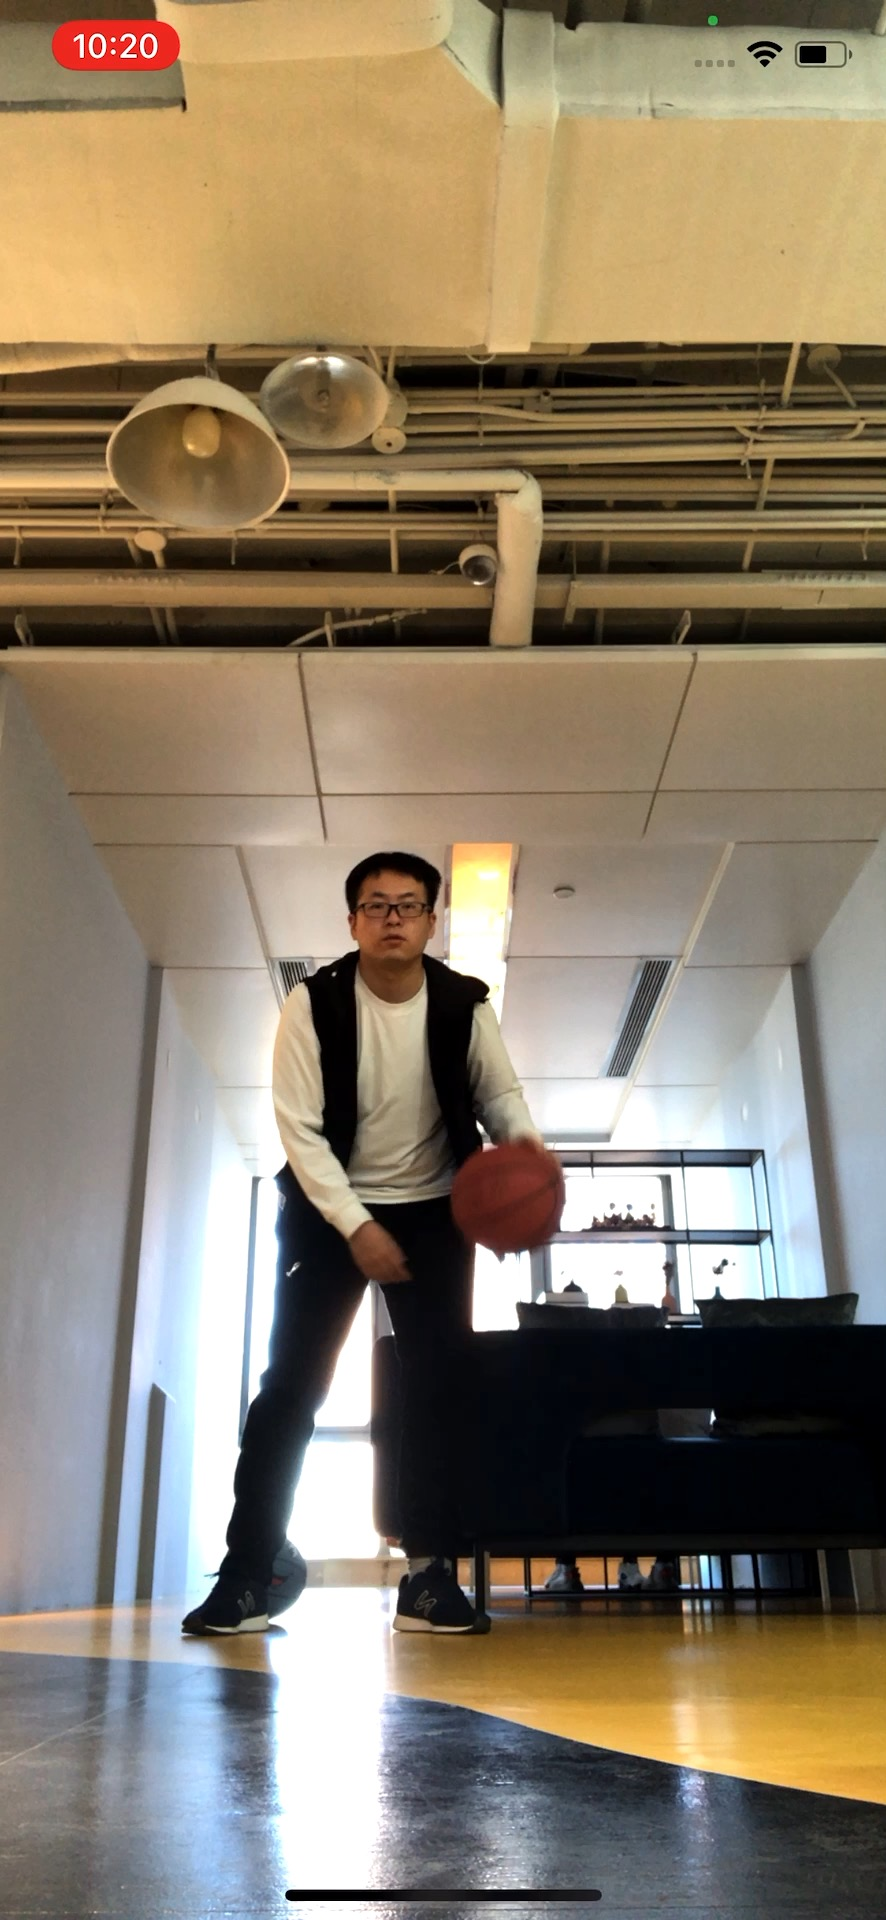ball: (455, 1147, 565, 1253)
